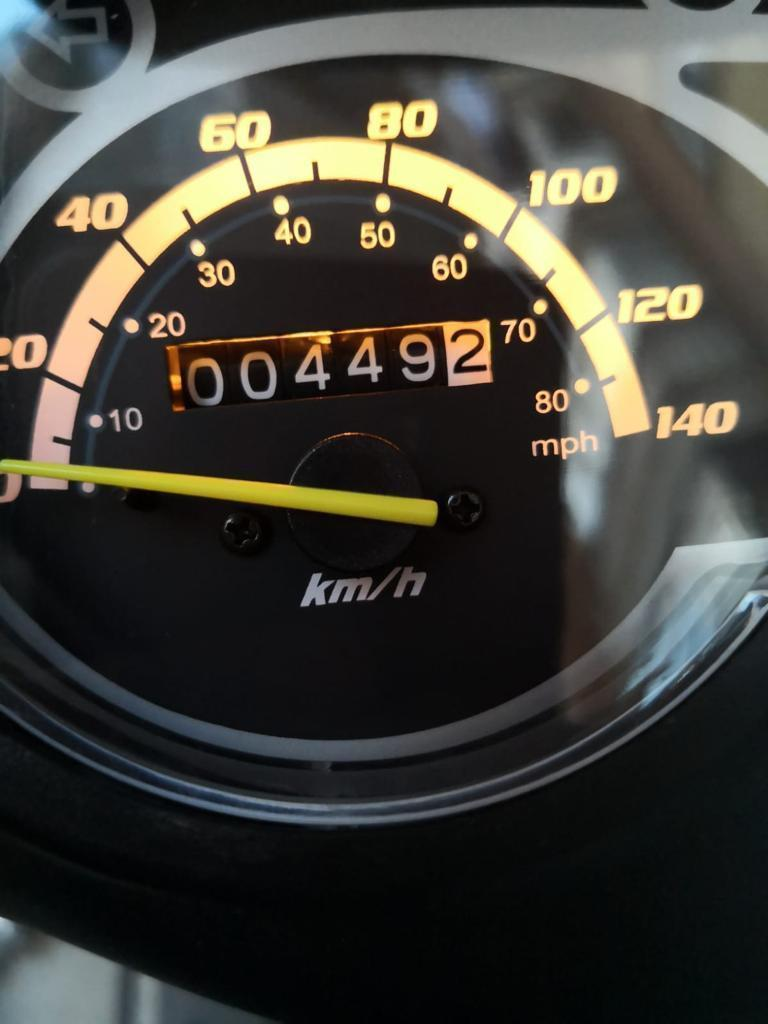0: (183, 353, 227, 409), (236, 347, 279, 402), (167, 310, 187, 337)
2: (447, 326, 490, 377), (152, 311, 167, 340)
4: (342, 333, 385, 386), (291, 340, 332, 392)
9: (396, 330, 438, 384)
odometer: (153, 309, 502, 417)
